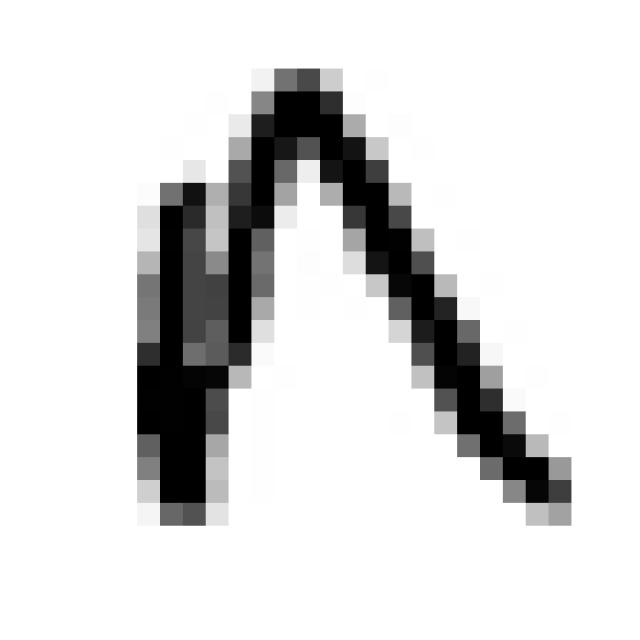8 -eight-: (110, 52, 594, 553)
